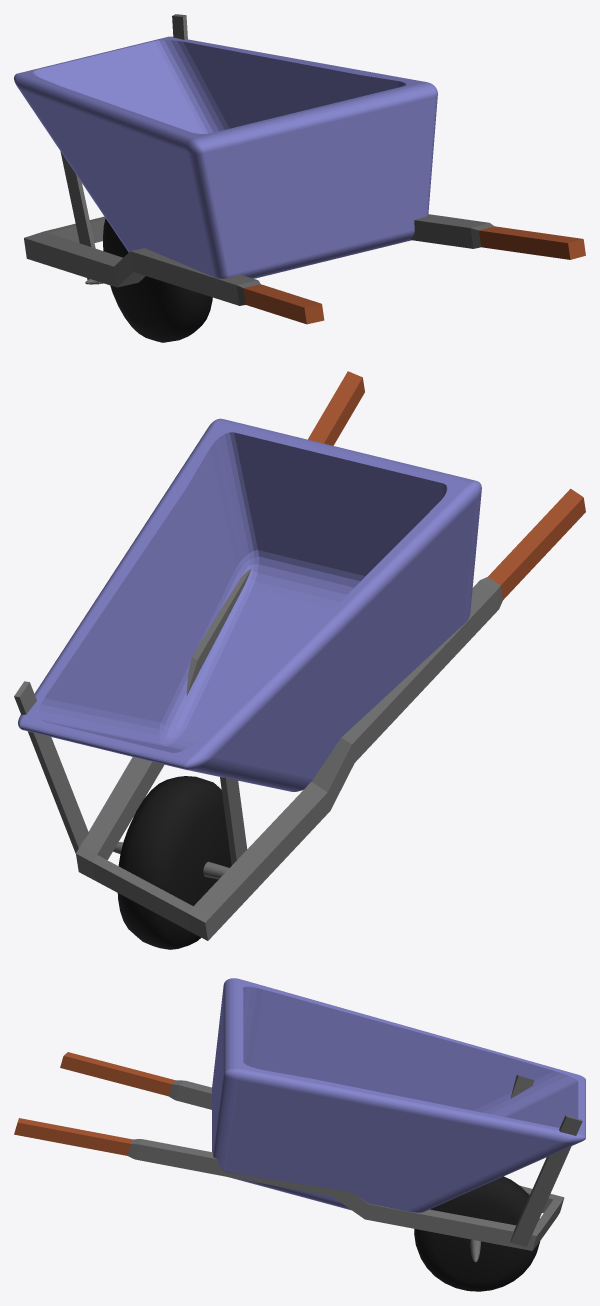
File: barrow2.fbx
The picture shows the model from 3 angles, top to bottom: view 1: azimuth 30°, elevation 25°; view 2: azimuth 150°, elevation 25°; view 3: azimuth 270°, elevation 25°; orthographic projection. The views are drawn at different scales.
Visible parts, largest first — view 1: Cube, Cube.002, Cylinder, Cube.004; view 2: Cube, Cube.002, Cylinder, Cube.004; view 3: Cube, Cube.002, Cylinder, Cube.004.
Part boxes in pixels (x1,y1,x2,y2): Cube: [14, 36, 437, 278]; Cube.002: [24, 214, 585, 324]; Cylinder: [103, 218, 212, 342]; Cube.004: [60, 14, 187, 284]; Cube: [18, 418, 481, 791]; Cube.002: [76, 371, 585, 940]; Cylinder: [117, 776, 231, 949]; Cube.004: [14, 681, 247, 865]; Cube: [212, 978, 585, 1212]; Cube.002: [14, 1052, 564, 1250]; Cylinder: [414, 1176, 540, 1291]; Cube.004: [510, 1075, 582, 1246].
Bounding box in the file's own units: 240 × 300 × 584.
